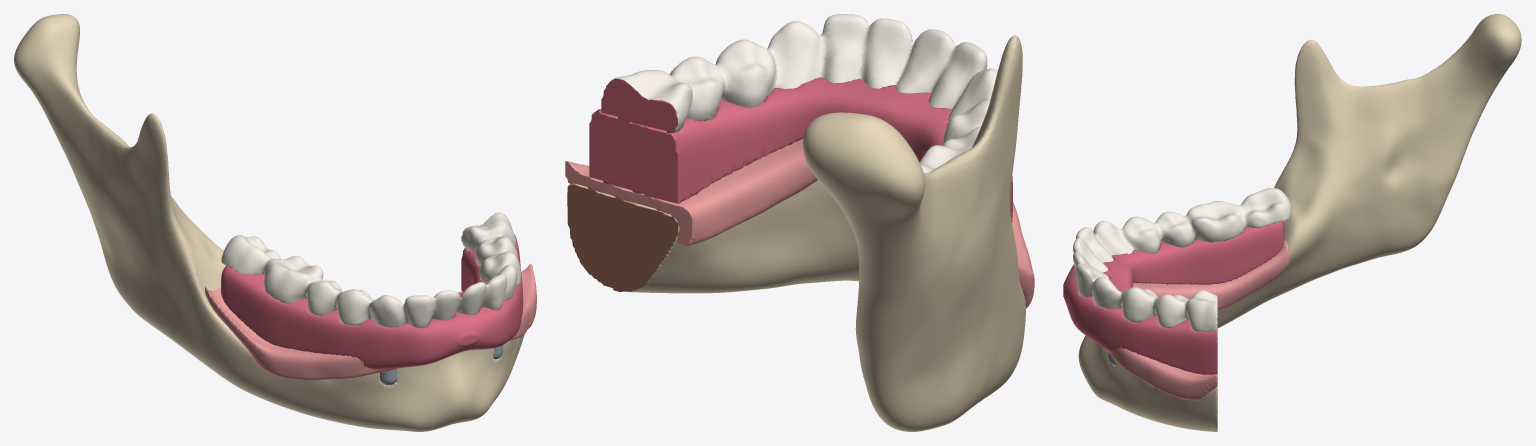
The model's file is overdenture-cut.glb.
The picture shows the model from 3 angles, left to right: view 1: azimuth 30°, elevation 25°; view 2: azimuth 150°, elevation 25°; view 3: azimuth 270°, elevation 25°; orthographic projection. The views are drawn at different scales.
Parts seen in each view (by area): view 1: bone, denture, denture_teeth, gum; view 2: bone, denture_teeth, denture, gum; view 3: bone, denture, denture_teeth, gum.
Part boxes in pixels (x1,y1,x2,y2): bone: (14,14,524,431); denture: (221,234,523,369); denture_teeth: (221,212,520,328); gum: (205,263,536,380); bone: (567,35,1025,431); denture_teeth: (601,14,997,173); denture: (589,77,1012,222); gum: (565,139,1034,308); bone: (1078,14,1521,431); denture: (1063,221,1284,374); denture_teeth: (1073,188,1291,331); gum: (1106,240,1289,400).
Size of the model in its own units: 86.56 by 67.95 by 98.73.
